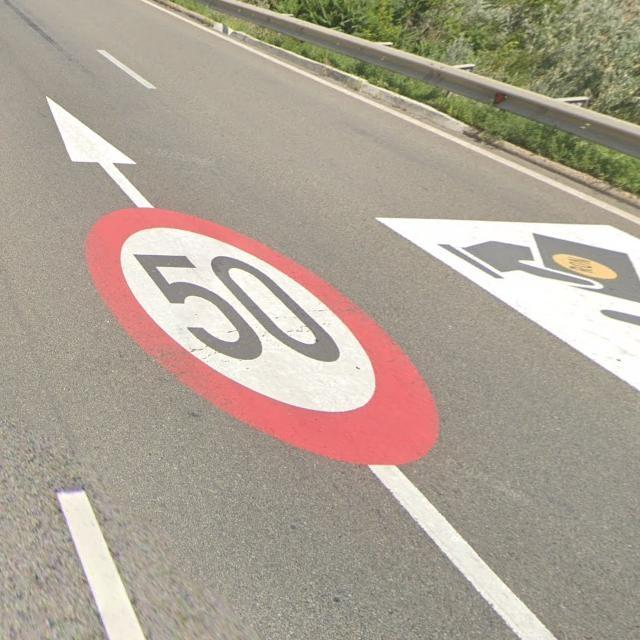forb_speed_over_50: (84, 206, 441, 468)
